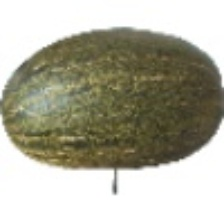honeydew: (0, 39, 194, 199)
